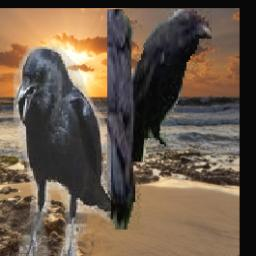Crow: (107, 10, 212, 231), (14, 47, 112, 256)
